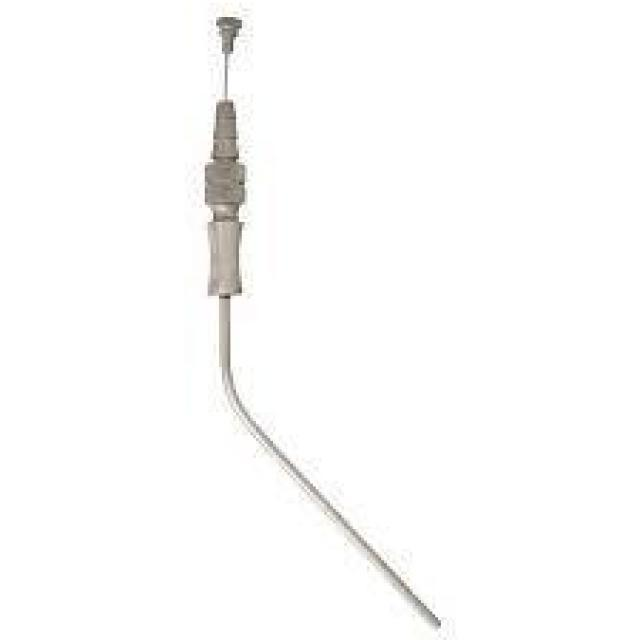Frazier: (199, 96, 444, 634)
